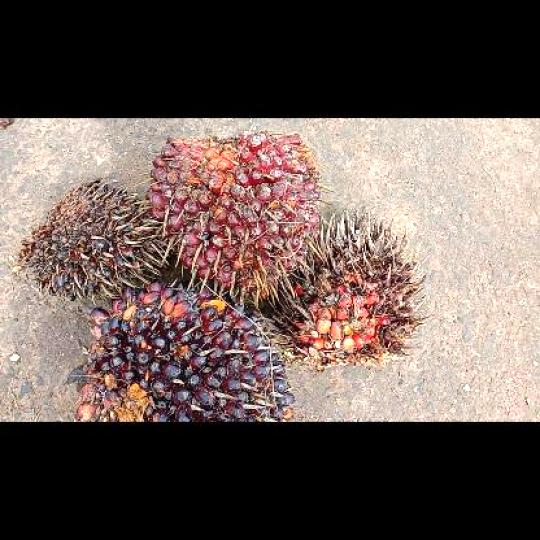kurang masak: (72, 278, 298, 420)
masak: (146, 130, 321, 304)
terlalu masak: (271, 204, 435, 370)
